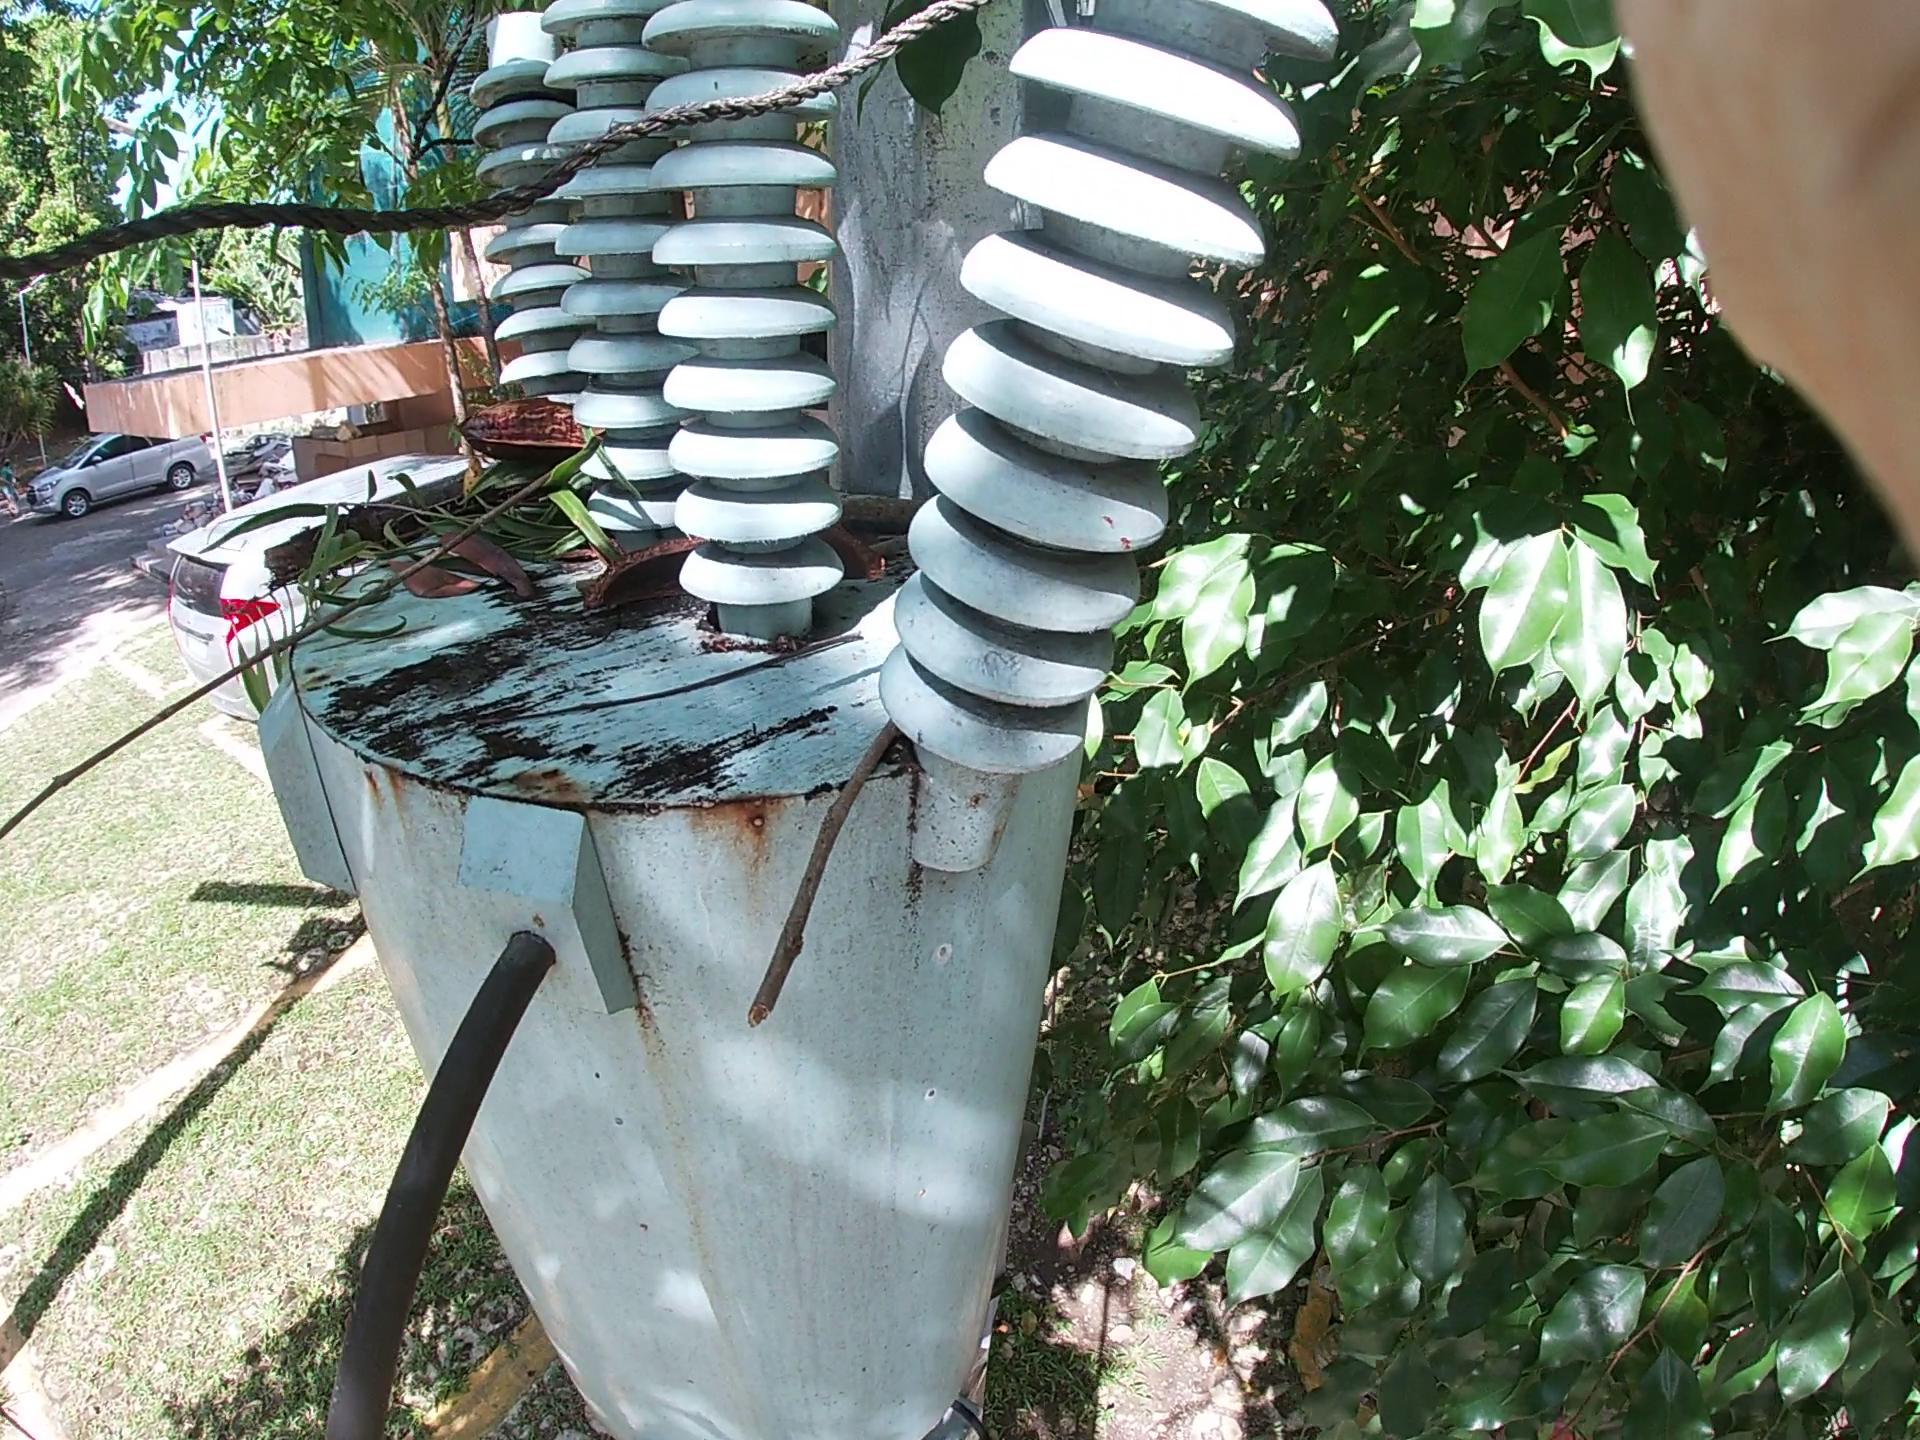branch with leaves: (299, 324, 906, 656)
tree branch: (169, 321, 741, 735), (779, 617, 1067, 1023)
